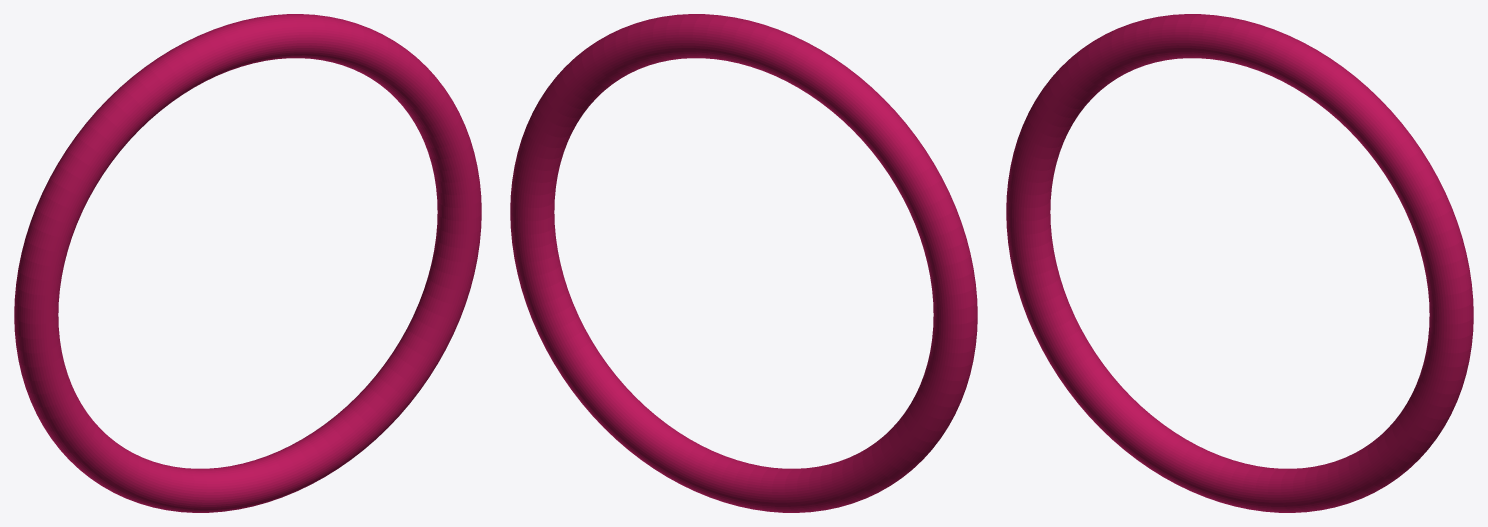
The picture shows the model from 3 angles, left to right: view 1: azimuth 30°, elevation 25°; view 2: azimuth 150°, elevation 25°; view 3: azimuth 330°, elevation 25°; orthographic projection.
Visible parts, largest first — view 1: world; view 2: world; view 3: world.
Boxes of the visible parts, x1,y1,x2,y2 form: world: (14,14,481,512); world: (510,14,977,512); world: (1006,14,1473,512).
Size of the model in its own units: 30.53 by 30.53 by 2.53.
